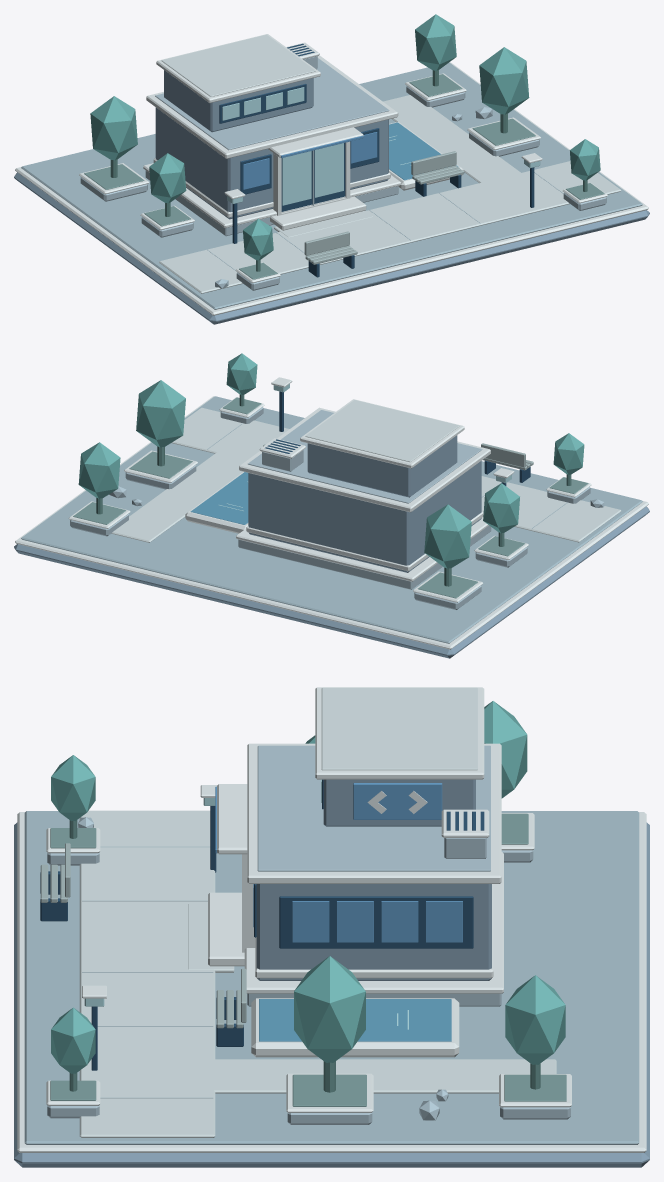
File: campus_home_study_v01.glb
3 renders of one model, top to bottom at view 1: azimuth 30°, elevation 25°; view 2: azimuth 150°, elevation 25°; view 3: azimuth 270°, elevation 25°, orthographic. The views are drawn at different scales.
Parts seen in each view (by area): view 1: Terrain, Lab, Garden; view 2: Terrain, Lab, Garden; view 3: Terrain, Lab, Garden.
Boxes of the visible parts, bbox=[...] form: Terrain: bbox=[14, 62, 649, 324]; Lab: bbox=[143, 34, 401, 236]; Garden: bbox=[79, 14, 607, 290]; Terrain: bbox=[14, 396, 649, 658]; Lab: bbox=[236, 399, 491, 589]; Garden: bbox=[68, 353, 604, 609]; Terrain: bbox=[14, 810, 649, 1167]; Lab: bbox=[208, 687, 503, 1006]; Garden: bbox=[40, 701, 571, 1124].
Size of the model in its own units: 19 by 5.65 by 15.
Materials: 1 (1 with a texture image).
